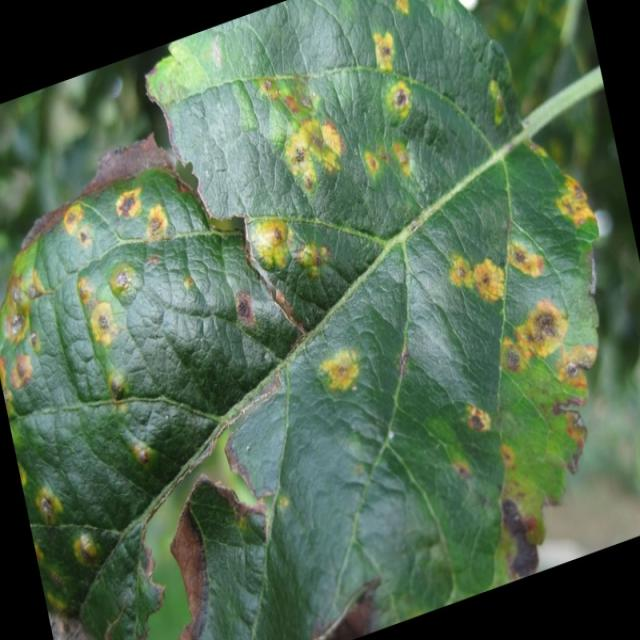Gymnosporangium_Rusts: (1, 1, 602, 637)
